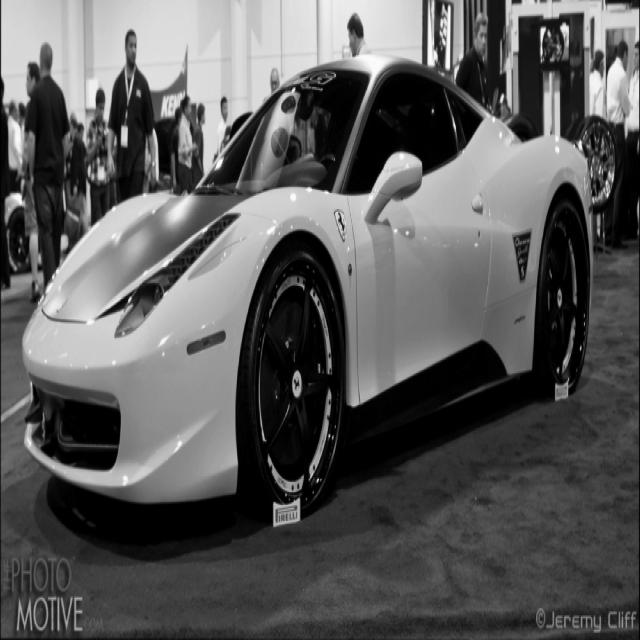car: (22, 54, 594, 525)
